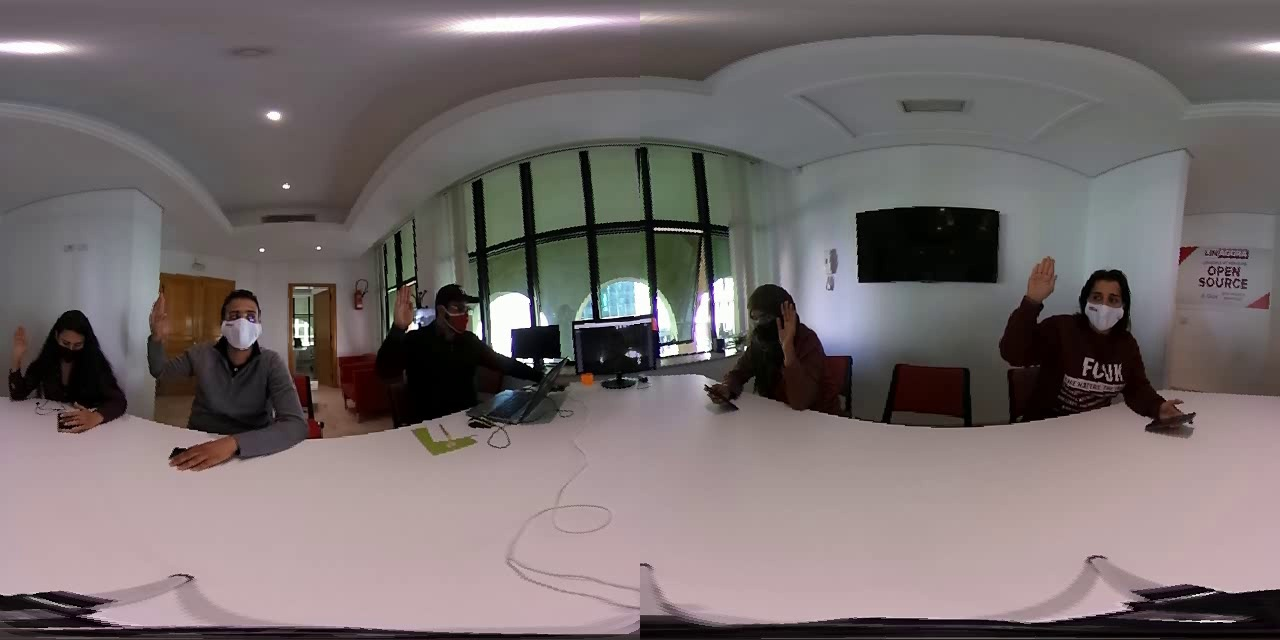person: (139, 281, 316, 460), (1002, 243, 1158, 440), (698, 260, 836, 423), (2, 299, 126, 448), (379, 271, 497, 409)
voting: (1006, 245, 1059, 369), (771, 293, 815, 403), (379, 275, 424, 376), (140, 283, 177, 389), (4, 317, 34, 404)
